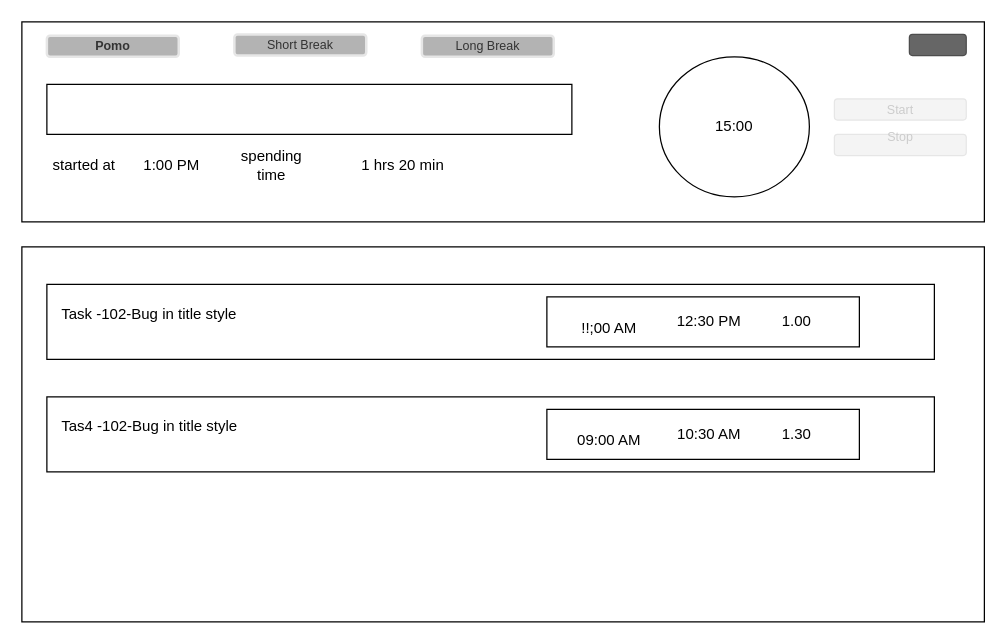
This 1006x644 diagram has some shape labels left out. The shapes that lost their labels are listed below. From the top down, each one's centre as x and y in pixels, then its label:
At (937,44): "Done".
At (309,108): "Task-101- Need to investigate not he Java 21 upgrade".
